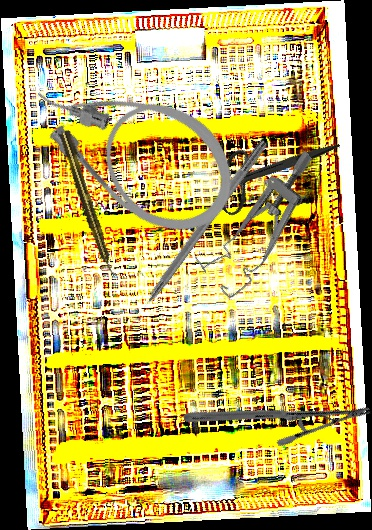Cannula: (14, 33, 258, 257)
Handpiece: (57, 128, 119, 280)
Hook Surgical: (125, 136, 270, 329)
Iris Scissors: (202, 97, 341, 244)
Needle Holder: (182, 331, 372, 498)
Speculum: (185, 149, 348, 301)
